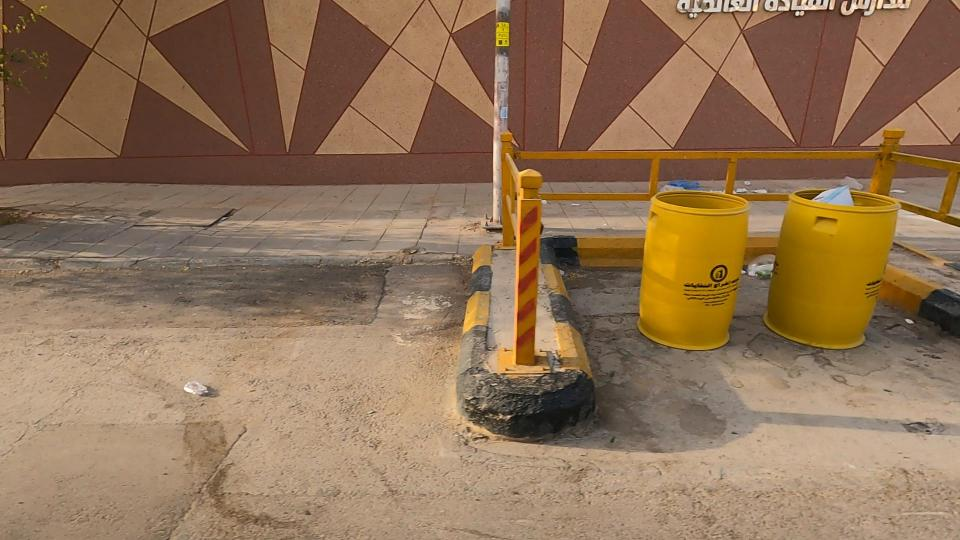GARBAGE: (686, 42, 960, 462), (674, 184, 863, 354), (588, 138, 833, 237), (163, 338, 235, 439)
